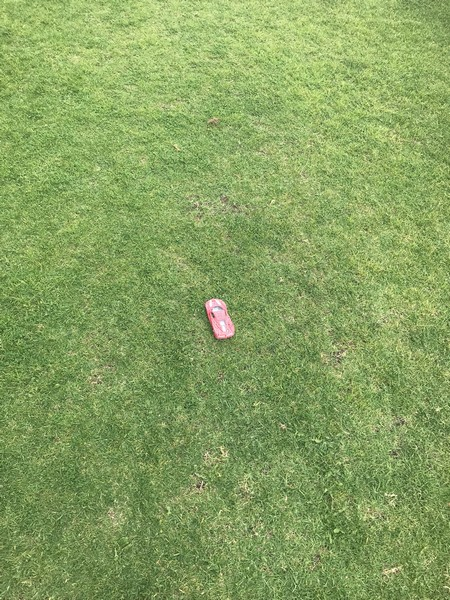RC: (203, 296, 237, 342)
